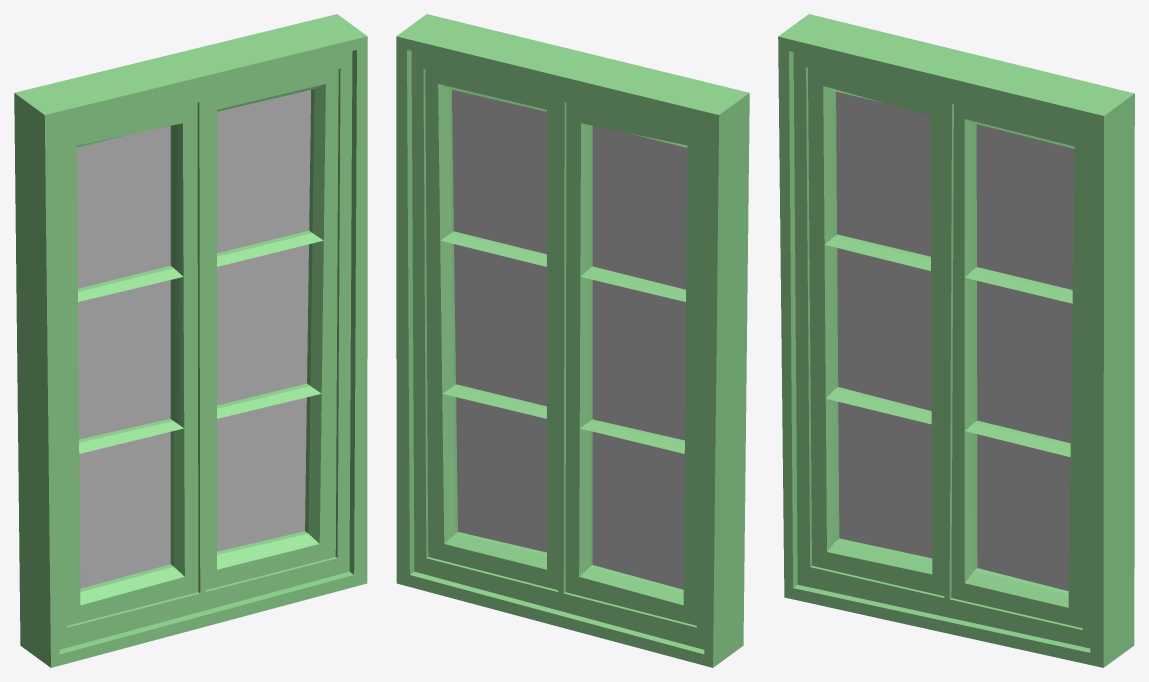
Rendered from window5_NEW.fbx.
3 views of the same model, side by side, from view 1: azimuth 30°, elevation 25°; view 2: azimuth 150°, elevation 25°; view 3: azimuth 330°, elevation 25° (orthographic).
Parts seen in each view (by area): view 1: Plane001_1, window5_obj; view 2: Plane001_1, window5_obj; view 3: Plane001_1, window5_obj.
Boxes of the visible parts, <box> form: Plane001_1: <box>14,14,367,667</box>; window5_obj: <box>76,90,310,588</box>; Plane001_1: <box>396,14,749,667</box>; window5_obj: <box>452,89,687,589</box>; Plane001_1: <box>778,14,1134,667</box>; window5_obj: <box>836,91,1074,590</box>.
Size of the model in its own units: 94.52 by 155 by 15.49.
